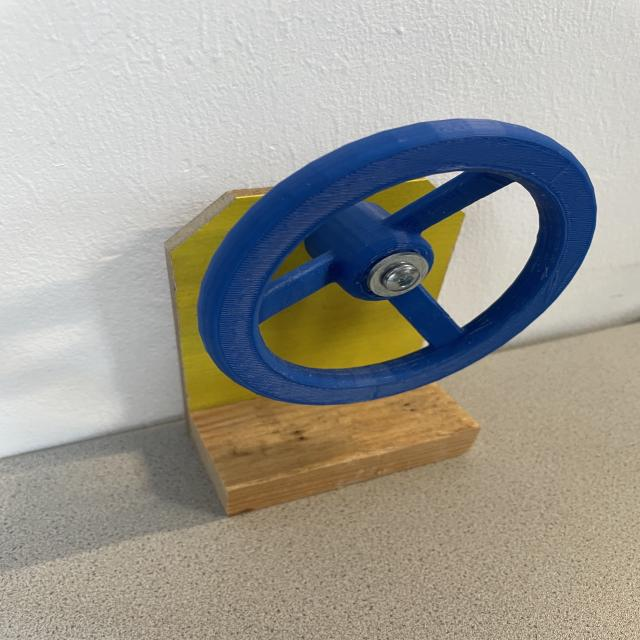Wheel Handle Valve Threaded: (187, 111, 606, 410)
